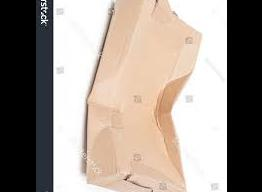damage_box: (83, 0, 205, 192)
